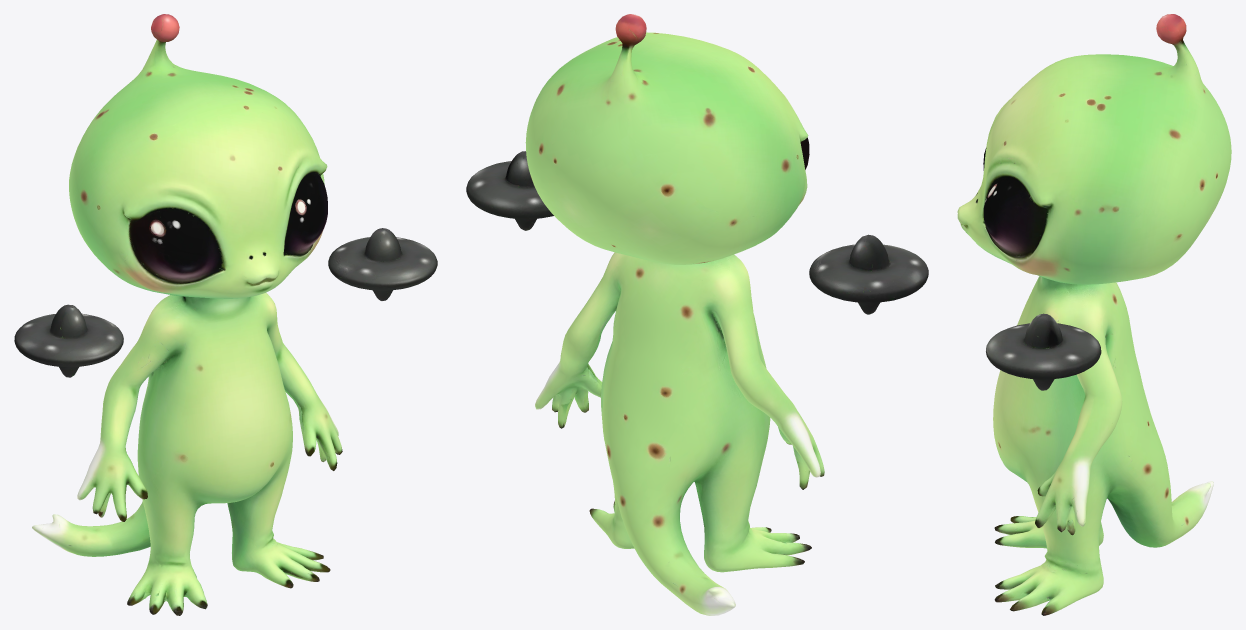
The model's file is cosmo-A_realistic-draco.glb.
3 views of the same model, side by side, from view 1: azimuth 30°, elevation 25°; view 2: azimuth 150°, elevation 25°; view 3: azimuth 270°, elevation 25° (orthographic). The views are drawn at different scales.
Parts seen in each view (by area): view 1: Mesh_0; view 2: Mesh_0; view 3: Mesh_0.
Boxes of the visible parts, box(x1,y1,x2,y2) form: Mesh_0: box(14, 14, 437, 615); Mesh_0: box(466, 14, 928, 615); Mesh_0: box(957, 14, 1231, 615).
Bounding box in the file's own units: 1.56 × 1.91 × 0.8584.
Materials: 1 (1 with a texture image).
